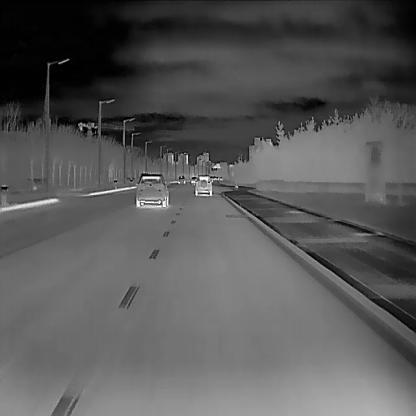car: (134, 173, 168, 207), (195, 174, 212, 196), (178, 174, 186, 184), (190, 176, 198, 185), (209, 175, 213, 181), (219, 176, 223, 180), (213, 176, 216, 180), (216, 176, 219, 180)
